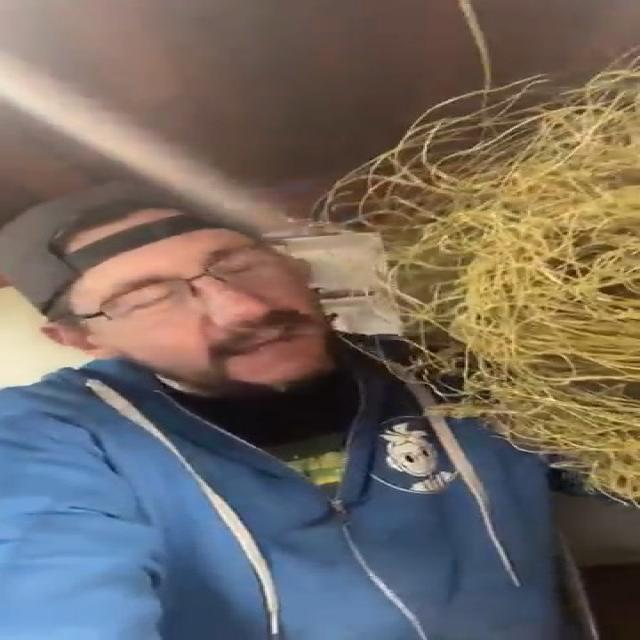spaghetti: (325, 63, 640, 511)
